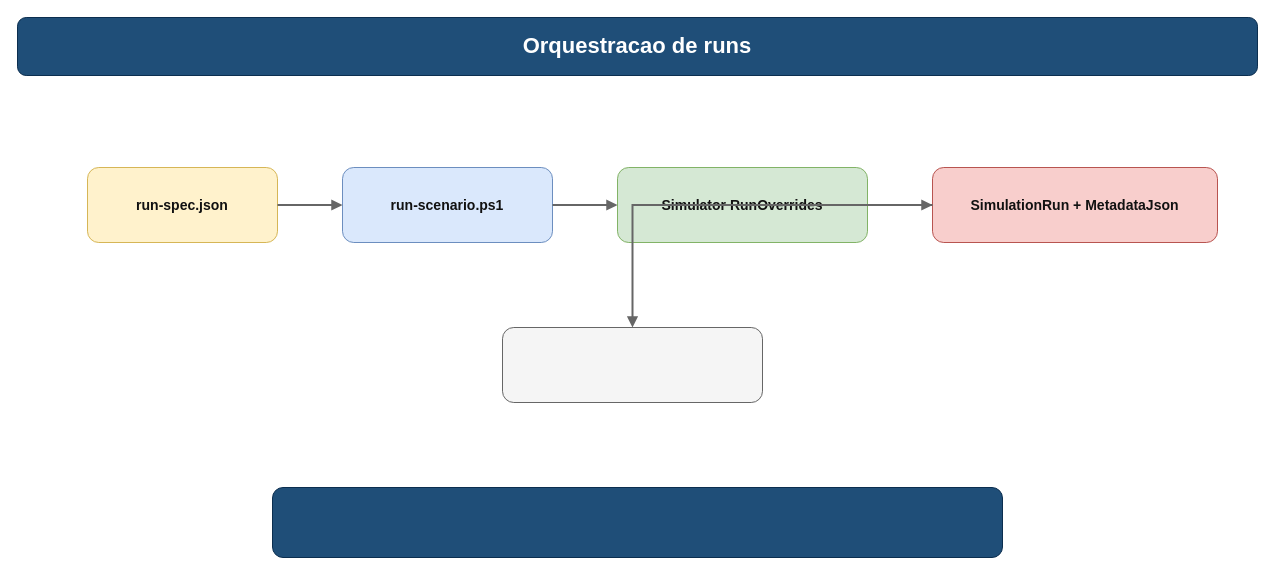
This 1275x575 diagram has some shape labels left out. Here are the shapes that lost their labels. From the top down, the centre of each, then its label:
At (x=632, y=364): "Evidencia por run".
At (x=637, y=522): "Uma run passa a ser reprodutivel por configuracao.".
